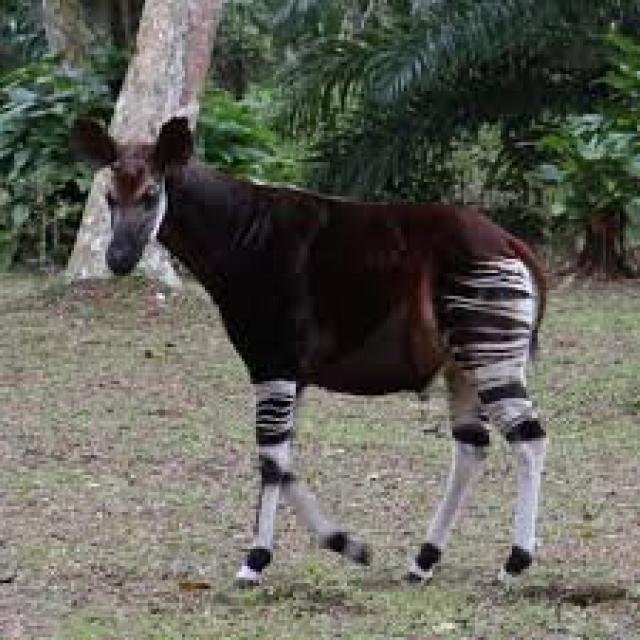Okapi: (59, 101, 558, 592)
